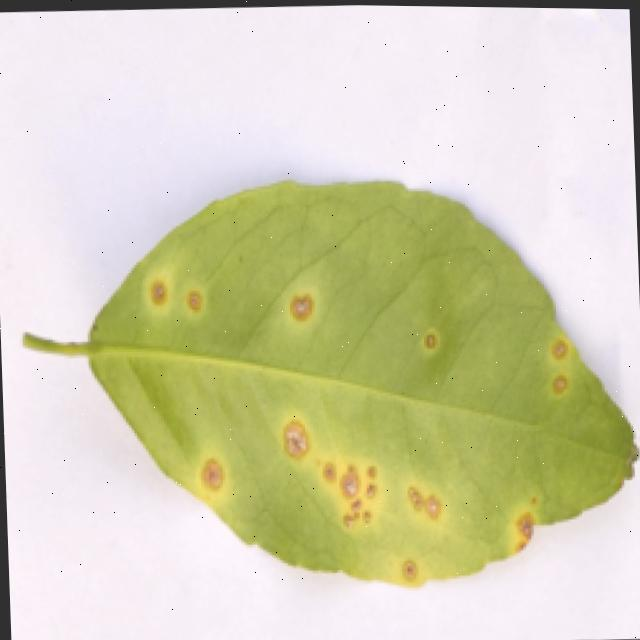canker: (28, 182, 634, 586), (269, 407, 462, 618), (178, 444, 242, 507), (142, 265, 206, 319), (536, 328, 584, 397), (506, 495, 548, 551), (280, 284, 328, 325), (407, 318, 457, 356)
